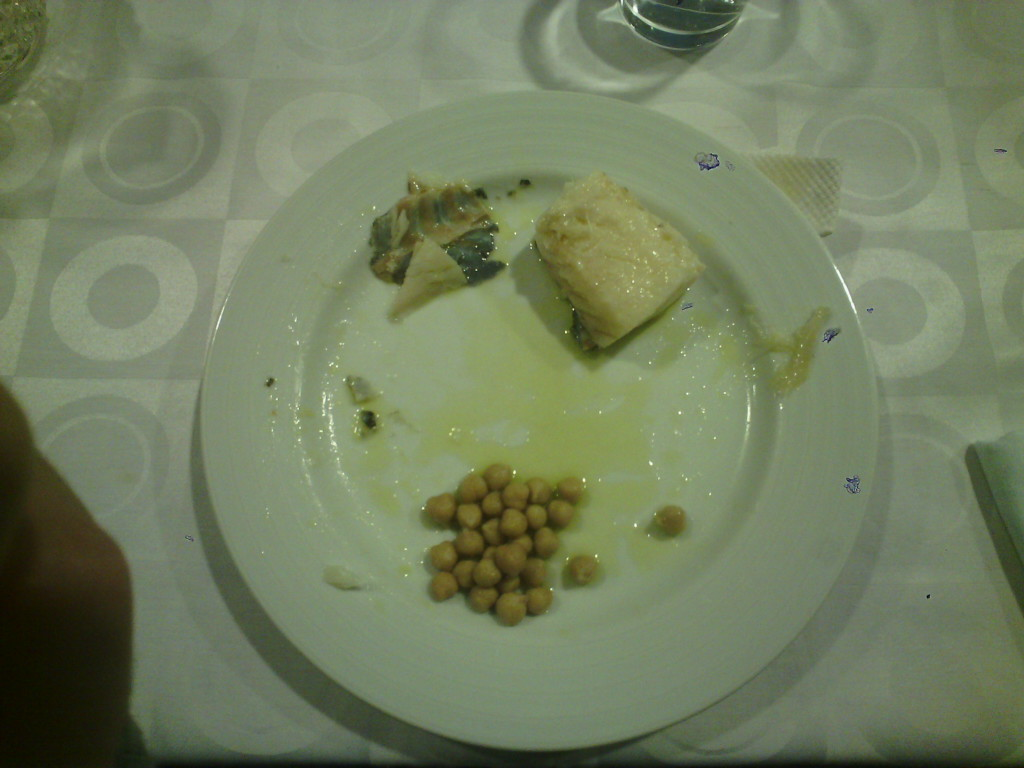21-40: (200, 91, 879, 749)
